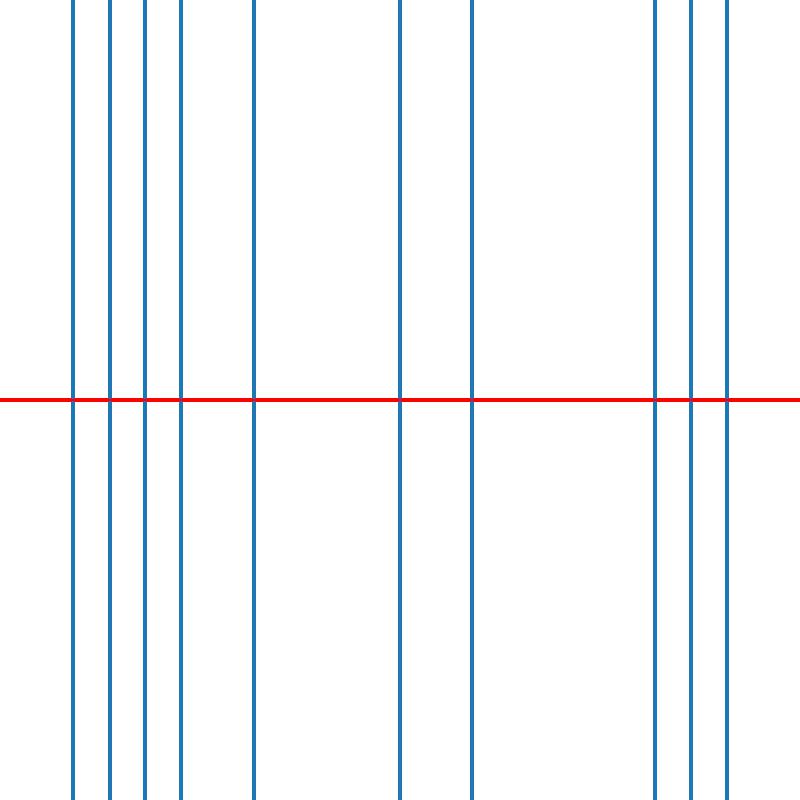root: (250, 396, 258, 404), (141, 396, 149, 404), (650, 396, 658, 404), (105, 396, 112, 404), (178, 396, 185, 404), (469, 396, 476, 404), (396, 396, 403, 404), (69, 396, 76, 404), (723, 396, 730, 404), (687, 396, 694, 404)
